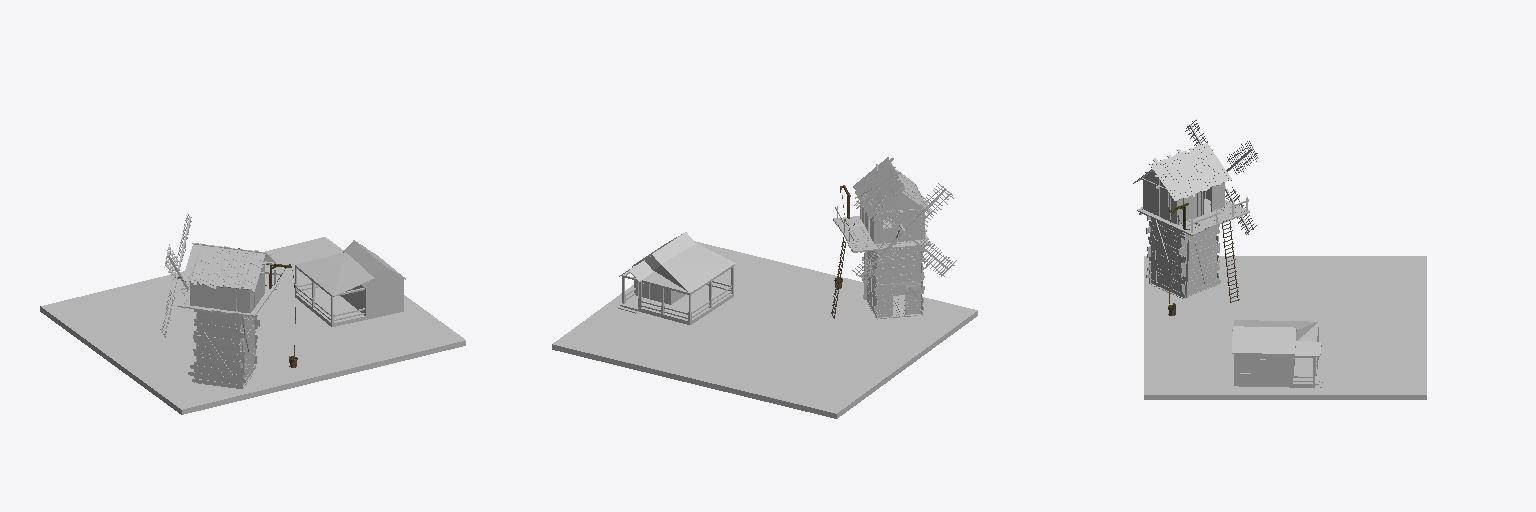
3 renders of one model, left to right at view 1: azimuth 30°, elevation 25°; view 2: azimuth 150°, elevation 25°; view 3: azimuth 270°, elevation 25°, orthographic.
Visible parts, largest first — view 1: Cube.006_Cube.004, floor.002, Plane.002_Plane.001, floor.006, Plane.003, floor.005, floor, floor.003, floor.001; view 2: Cube.006_Cube.004, Plane.002_Plane.001, floor.004, floor.006, Plane.003, floor, floor.005, floor.001, floor.002; view 3: Cube.006_Cube.004, Plane.002_Plane.001, floor.006, Plane.003, floor.002, floor.003, floor.005, floor.001, floor.
Part boxes in pixels (left/top/right/bottom): Cube.006_Cube.004: left=40, top=237, right=465, bottom=414; floor.002: left=188, top=310, right=259, bottom=388; Plane.002_Plane.001: left=295, top=240, right=405, bottom=323; floor.006: left=182, top=243, right=275, bottom=291; Plane.003: left=295, top=268, right=403, bottom=326; floor.005: left=190, top=260, right=281, bottom=313; floor: left=160, top=213, right=191, bottom=337; floor.003: left=184, top=288, right=276, bottom=384; floor.001: left=177, top=281, right=278, bottom=388; Cube.006_Cube.004: left=552, top=241, right=977, bottom=418; Plane.002_Plane.001: left=618, top=232, right=735, bottom=321; floor.004: left=874, top=246, right=924, bottom=317; floor.006: left=853, top=157, right=931, bottom=238; Plane.003: left=622, top=256, right=733, bottom=324; floor: left=852, top=183, right=956, bottom=282; floor.005: left=835, top=194, right=924, bottom=243; floor.001: left=833, top=216, right=930, bottom=318; floor.002: left=864, top=251, right=923, bottom=319; Cube.006_Cube.004: left=1144, top=256, right=1426, bottom=399; Plane.002_Plane.001: left=1232, top=320, right=1322, bottom=387; floor.006: left=1133, top=143, right=1231, bottom=214; Plane.003: left=1234, top=354, right=1318, bottom=387; floor.002: left=1146, top=216, right=1220, bottom=297; floor.003: left=1139, top=213, right=1186, bottom=298; floor.005: left=1143, top=172, right=1248, bottom=232; floor.001: left=1137, top=199, right=1249, bottom=298; floor: left=1185, top=119, right=1258, bottom=234.
Bounding box in the file's own units: 21.85 × 10.94 × 19.5.
Materials: 14 (2 with a texture image).